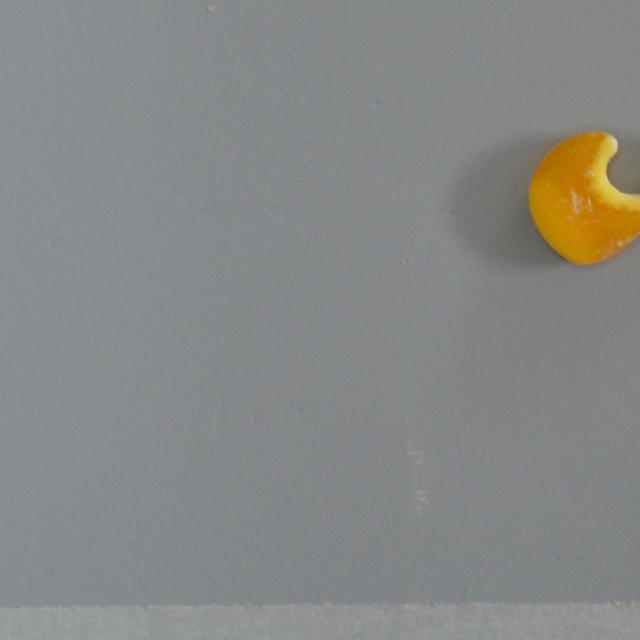dañado: (518, 127, 640, 270)
